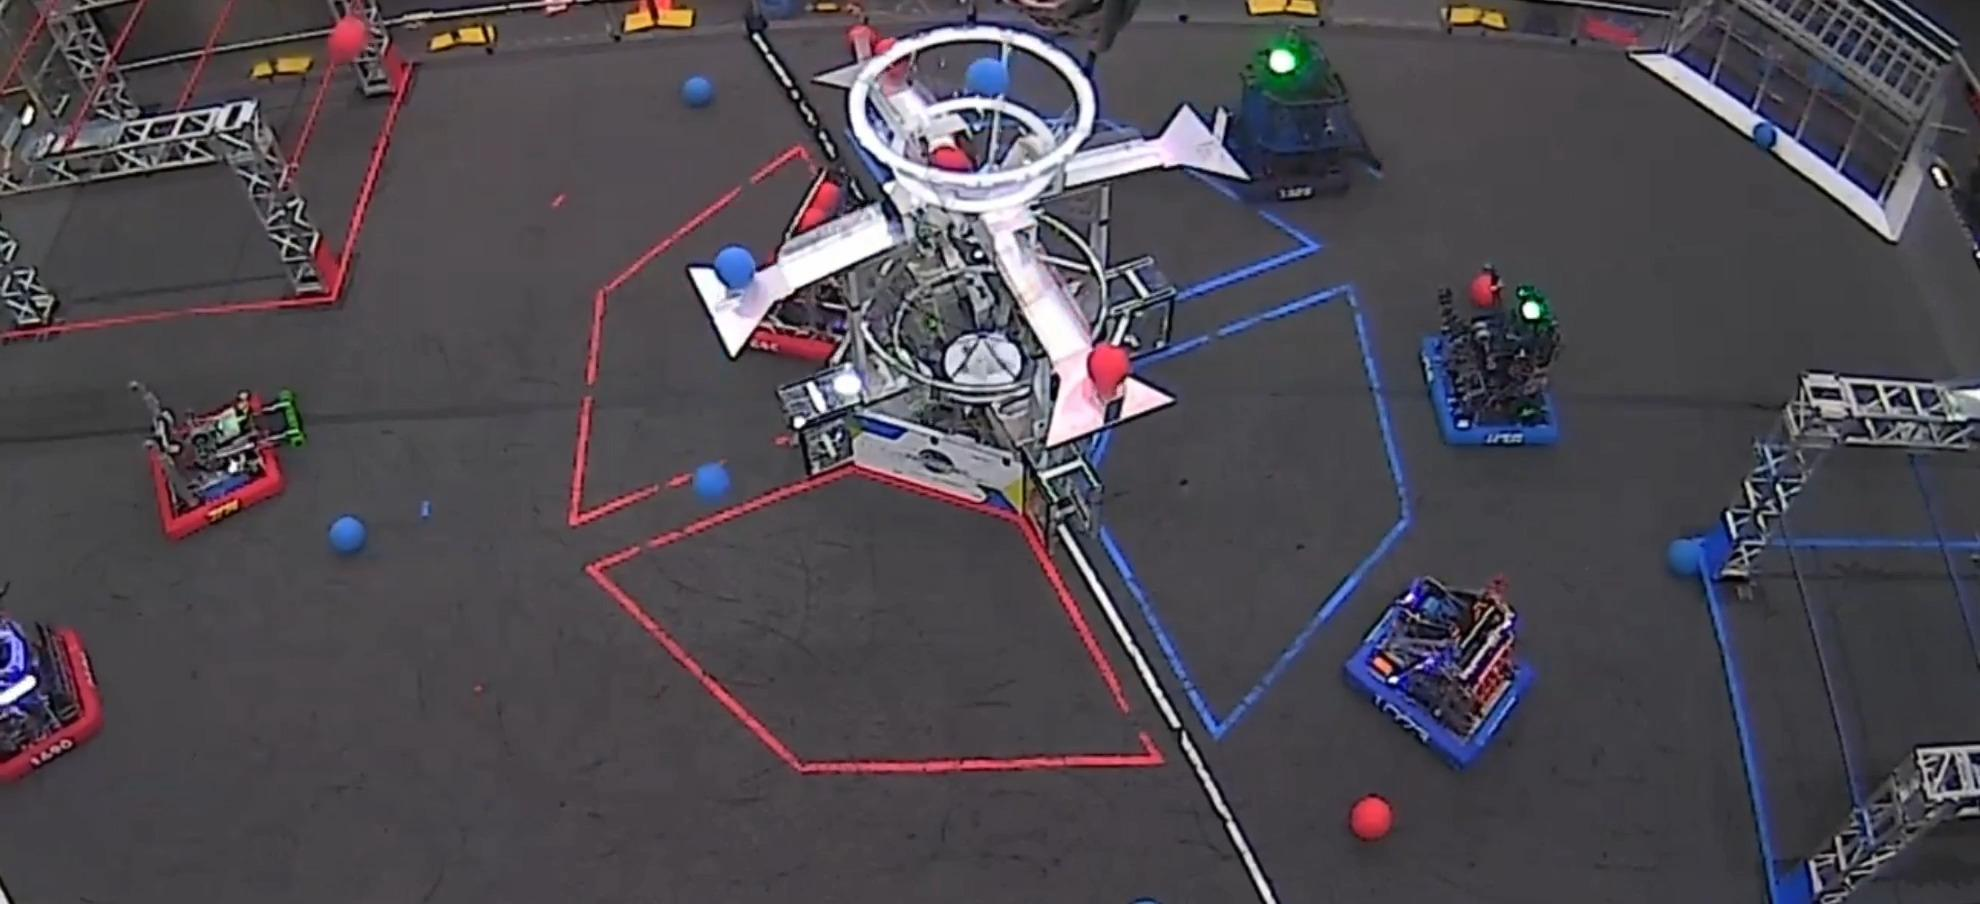Robots: (1346, 578, 1531, 767), (130, 382, 305, 539), (1226, 29, 1381, 200), (1423, 265, 1559, 444), (0, 614, 101, 780), (750, 279, 848, 363)
